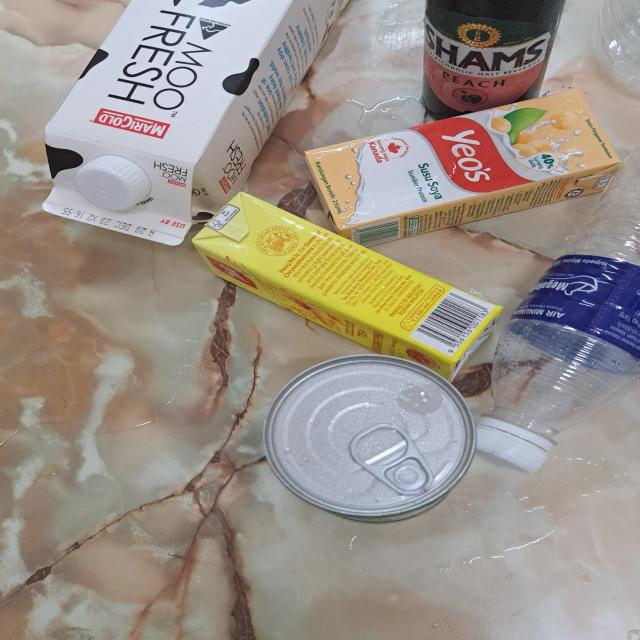can: (263, 355, 475, 525)
drink carton: (37, 0, 350, 247), (192, 191, 503, 384), (304, 88, 622, 247)
glass bottle: (419, 0, 564, 120)
plastic bottle: (482, 147, 640, 438)
plastic bottle cap: (76, 154, 152, 213), (472, 424, 549, 476)
pop tab: (349, 423, 436, 498)
